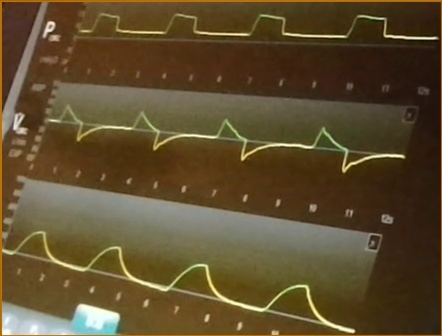Normal Flow: (49, 97, 403, 175)
Normal Volume: (3, 229, 354, 332)
